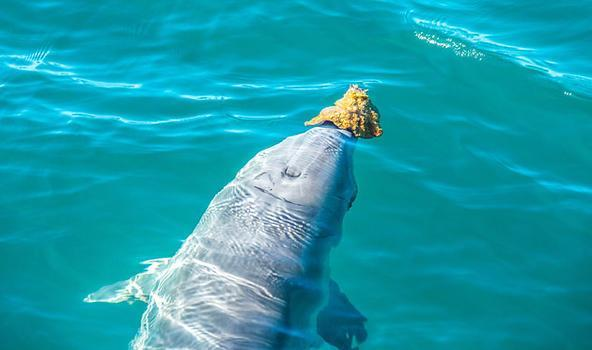fish: (81, 120, 375, 349)
